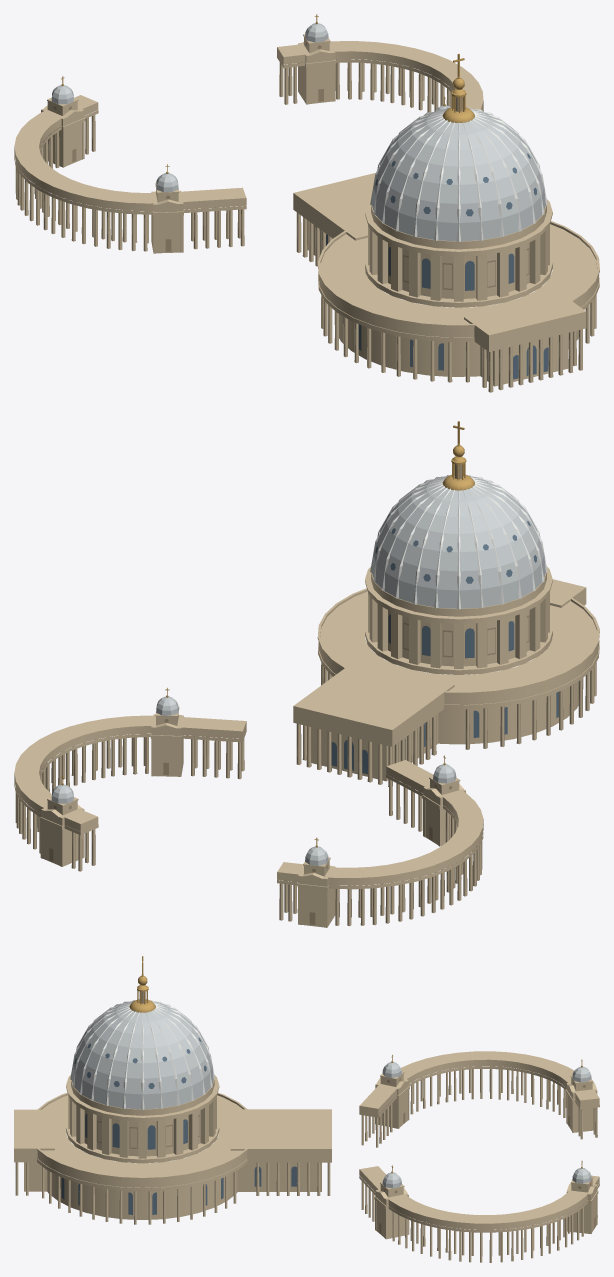
Rendered from yamoussoukro-basilica.glb.
3 renders of one model, top to bottom at view 1: azimuth 30°, elevation 25°; view 2: azimuth 150°, elevation 25°; view 3: azimuth 270°, elevation 25°, orthographic. The views are drawn at different scales.
Parts seen in each view (by area): view 1: Basilica of Our Lady of Peace; view 2: Basilica of Our Lady of Peace; view 3: Basilica of Our Lady of Peace.
Part boxes in pixels (x1=…): Basilica of Our Lady of Peace: x1=14, y1=14, x2=599, y2=392; Basilica of Our Lady of Peace: x1=14, y1=421, x2=599, y2=927; Basilica of Our Lady of Peace: x1=14, y1=956, x2=599, y2=1262.
Size of the model in its own units: 265 by 158 by 380.
